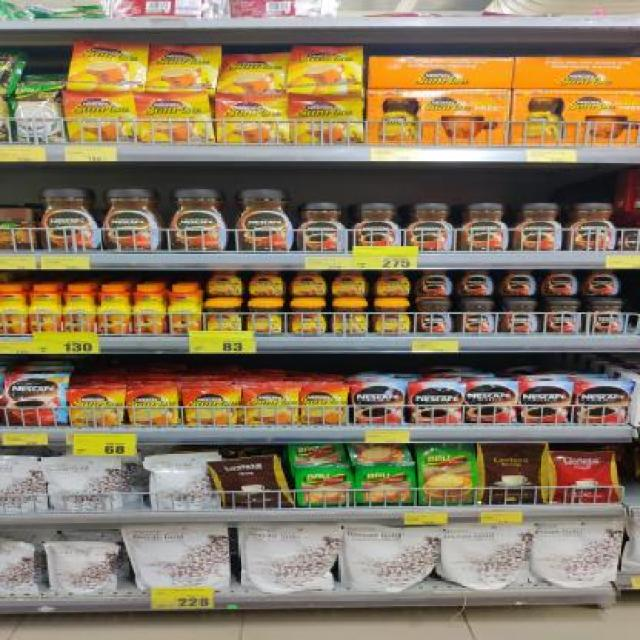Coffee: (140, 92, 214, 142), (66, 92, 137, 143), (41, 188, 97, 250), (74, 41, 144, 90), (290, 46, 361, 94), (218, 95, 290, 142), (171, 190, 227, 250), (293, 95, 362, 143), (106, 188, 157, 250), (3, 375, 66, 425), (239, 191, 292, 249), (151, 46, 217, 91), (222, 55, 287, 94), (299, 203, 347, 250), (354, 204, 401, 248), (572, 203, 616, 249), (408, 204, 452, 250), (519, 202, 561, 250), (409, 384, 462, 422), (521, 382, 570, 423), (577, 384, 629, 422), (186, 388, 240, 424), (464, 204, 505, 251), (356, 383, 404, 423), (246, 388, 297, 424), (98, 284, 133, 336), (70, 389, 120, 425), (468, 383, 514, 422), (299, 388, 350, 423), (128, 390, 180, 424), (63, 284, 95, 334), (30, 285, 62, 332), (169, 286, 200, 334), (134, 285, 164, 333), (331, 299, 371, 333), (585, 299, 624, 333), (288, 299, 326, 333), (415, 299, 454, 332), (374, 300, 411, 334), (204, 298, 242, 331), (0, 285, 26, 333), (457, 300, 495, 332), (500, 301, 538, 333), (544, 300, 580, 332), (247, 300, 281, 332), (584, 270, 621, 296), (414, 270, 452, 295), (498, 272, 536, 296), (375, 270, 410, 296), (206, 270, 240, 296), (458, 271, 494, 295), (289, 271, 325, 295), (331, 271, 366, 295), (545, 270, 577, 296), (249, 272, 283, 294)
